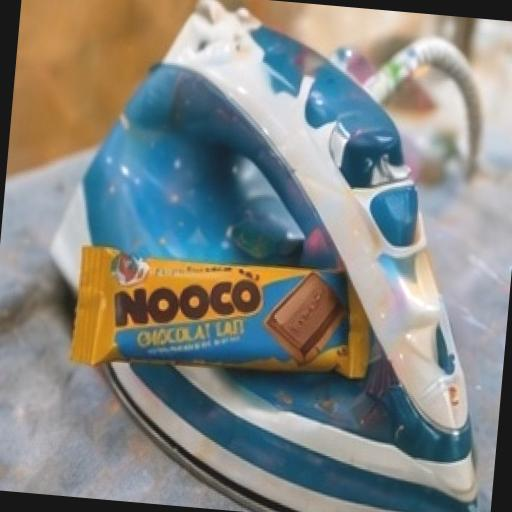biscuit-detection: (42, 182, 476, 450)
